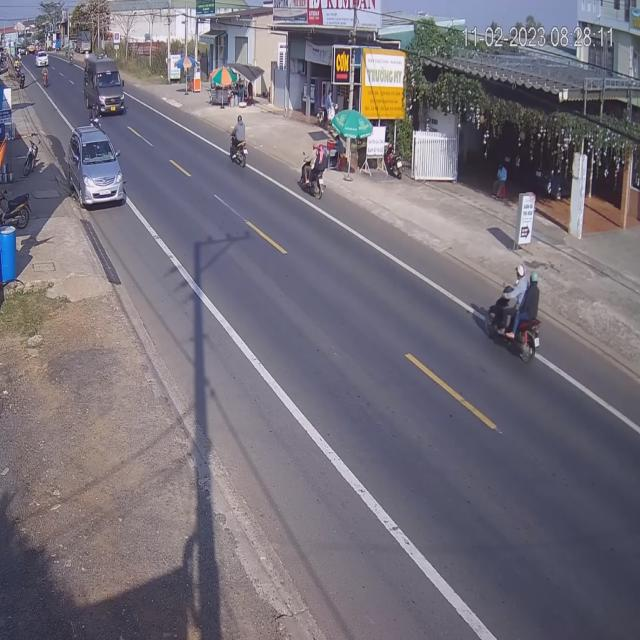car: (69, 126, 126, 209), (36, 51, 48, 70)
motorbike: (485, 264, 541, 366), (298, 142, 326, 202), (230, 116, 250, 171)
truck: (83, 54, 124, 115)
